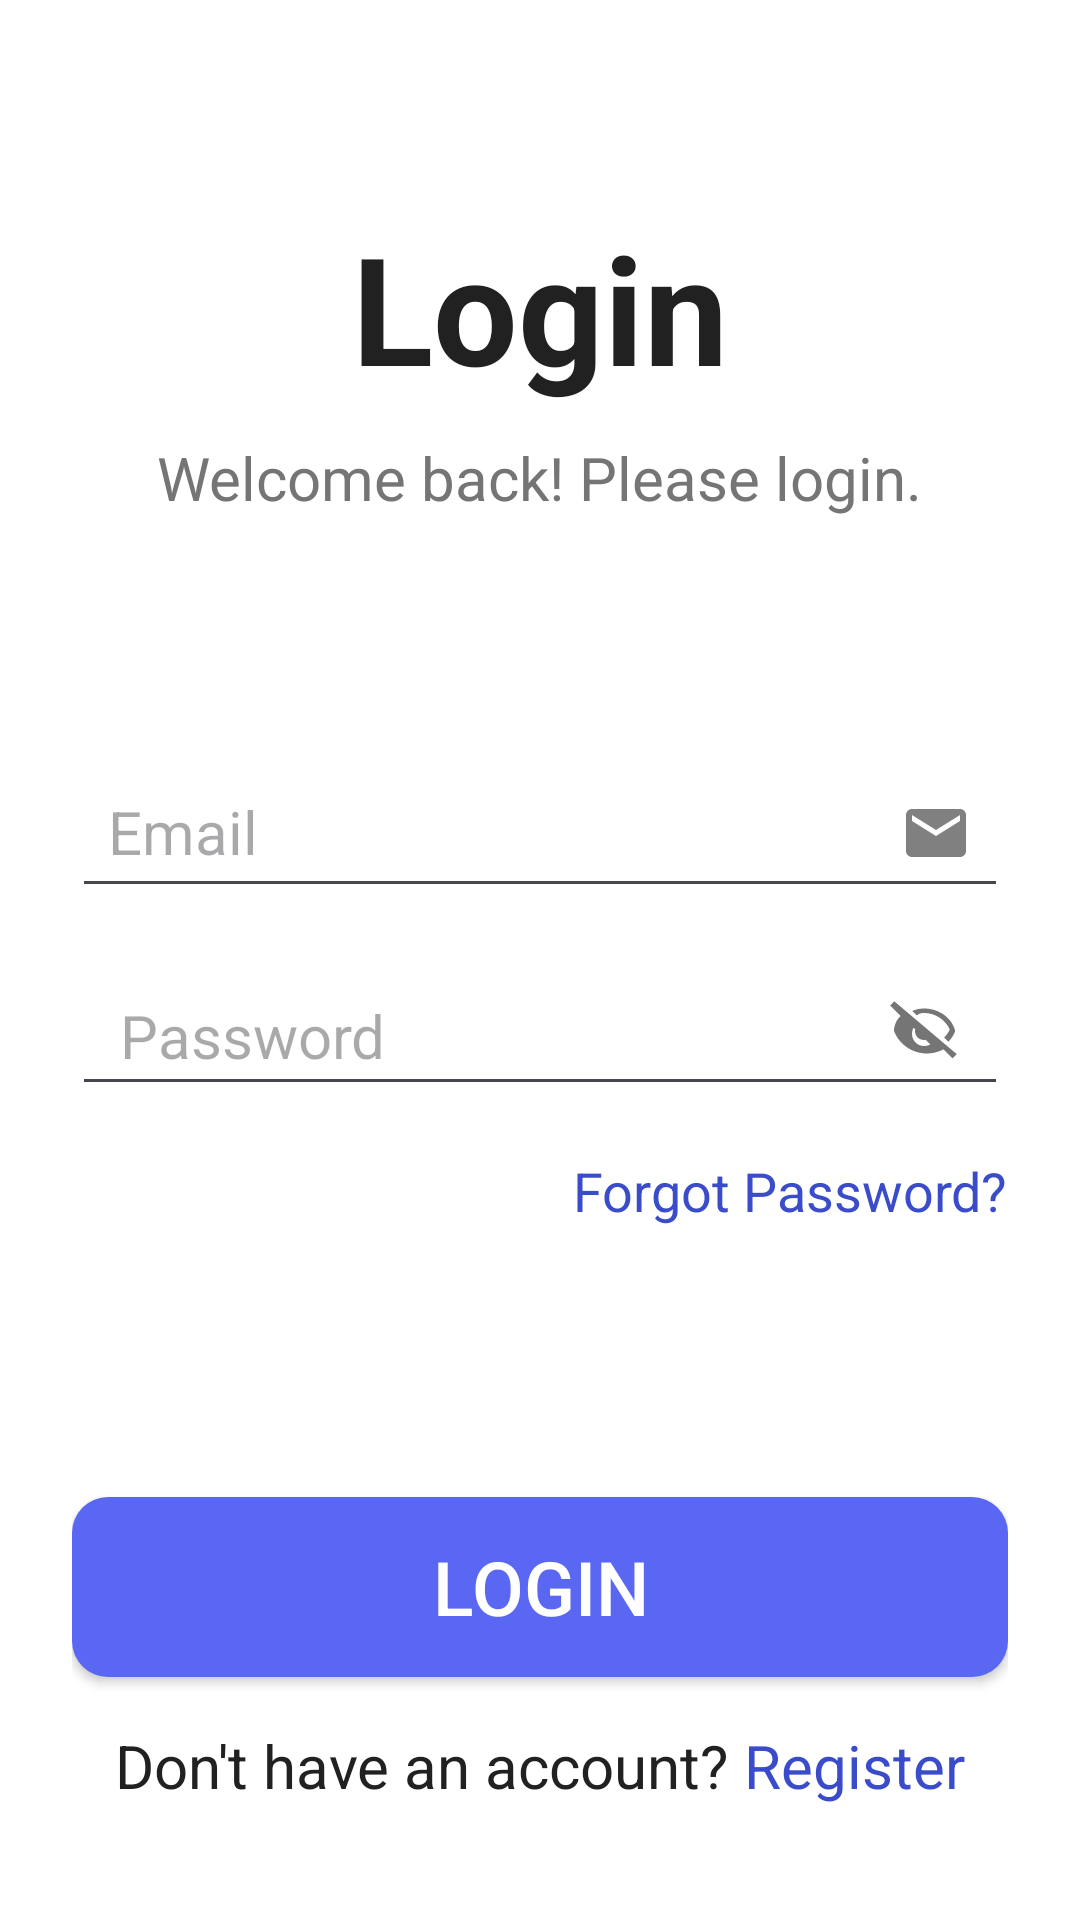

Icons on this 1080*1920 Android screen, each with the point to tap as (x,y):
eye closed: (923,1029)
